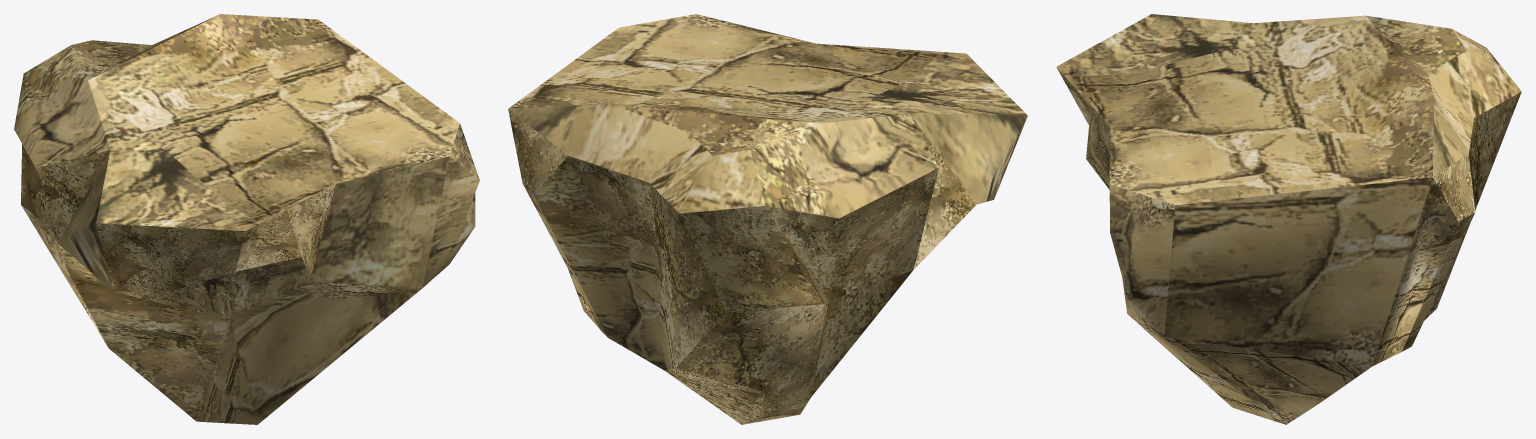
File: geo_desert_02.dae
3 views of the same model, side by side, from view 1: azimuth 30°, elevation 25°; view 2: azimuth 150°, elevation 25°; view 3: azimuth 270°, elevation 25° (orthographic). The views are drawn at different scales.
Visible parts, largest first — view 1: Box04-Pivot; view 2: Box04-Pivot; view 3: Box04-Pivot.
Boxes of the visible parts, x1,y1,x2,y2 form: Box04-Pivot: (14,14,479,424); Box04-Pivot: (508,14,1027,424); Box04-Pivot: (1056,14,1521,424).
Size of the model in its own units: 10.73 by 11.03 by 8.9.
